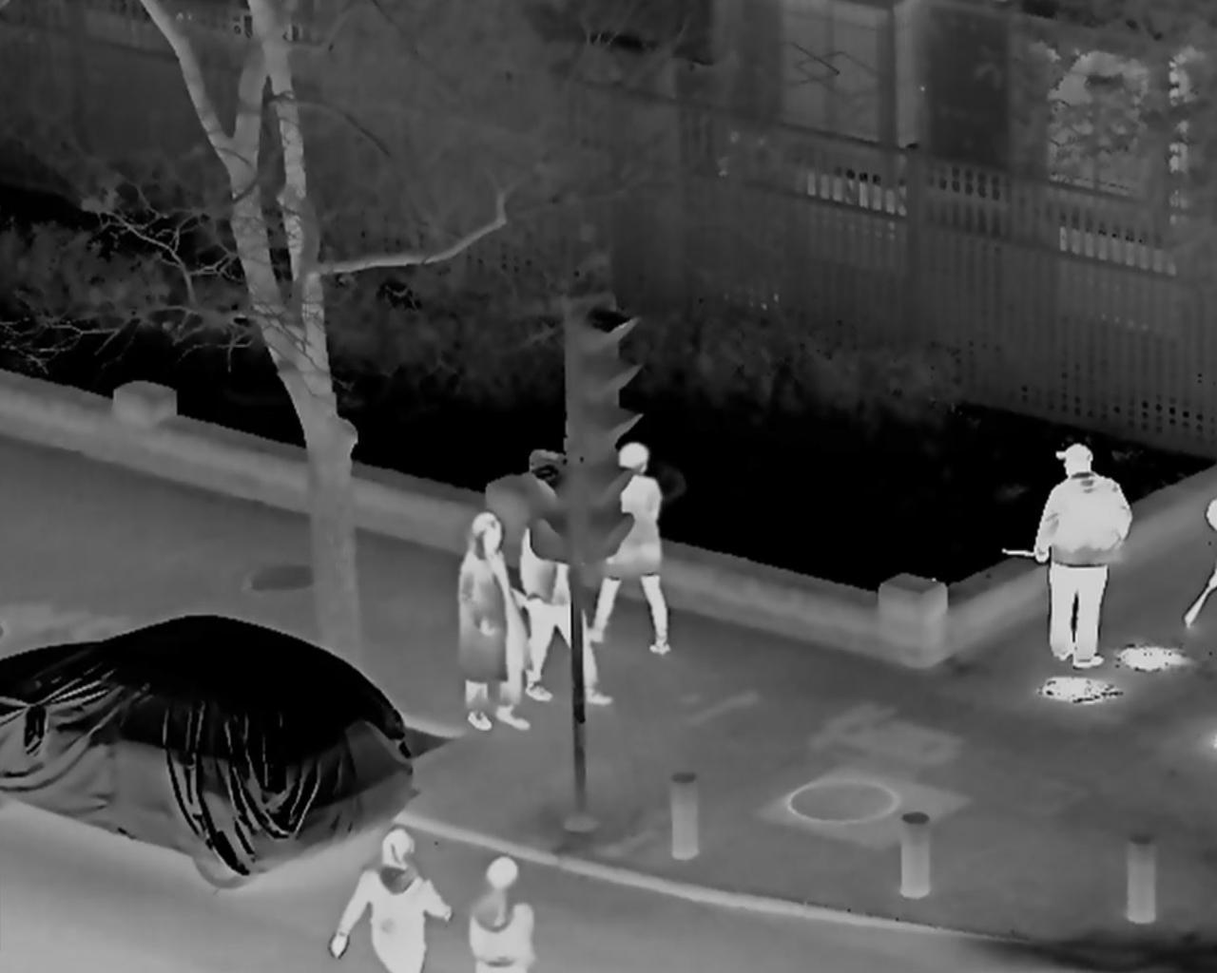person: (1033, 444, 1129, 672), (523, 484, 609, 708), (331, 827, 454, 973), (589, 448, 672, 652), (455, 513, 527, 734), (467, 857, 535, 973)
